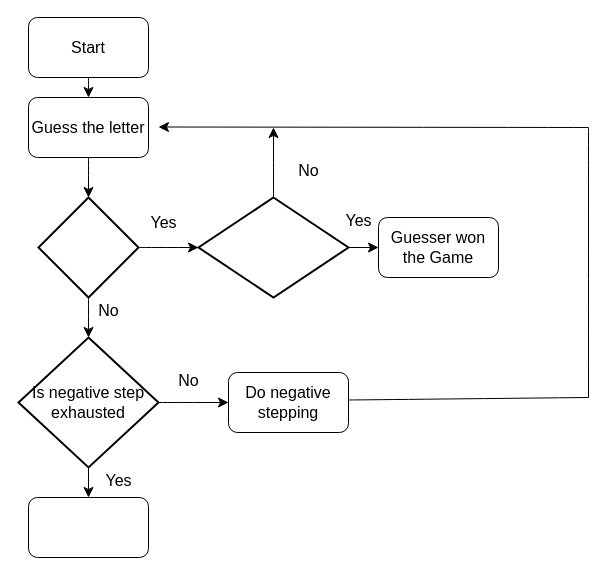
Some shapes in this 607 by 575 pixel diagram are drawn without their labels. Here are the shapes that lost their labels. From the top down, the centre of each, then its label:
point 88,247: Is letter correct
point 273,247: Is word completed?
point 88,527: Guesser Lost the game
